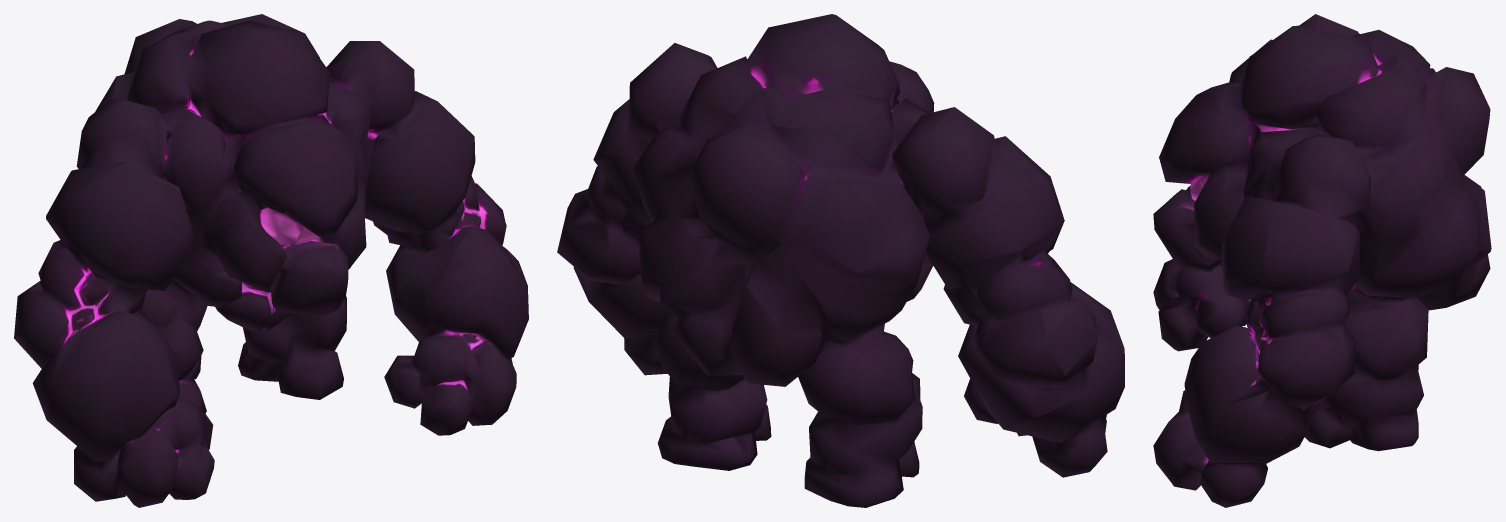
Rendered from hantal.glb.
3 views of the same model, side by side, from view 1: azimuth 30°, elevation 25°; view 2: azimuth 150°, elevation 25°; view 3: azimuth 270°, elevation 25° (orthographic). The views are drawn at different scales.
Visible parts, largest first — view 1: material; view 2: material; view 3: material.
Boxes of the visible parts, left/top/right/bottom form: material: left=14, top=14, right=528, bottom=507; material: left=557, top=14, right=1124, bottom=507; material: left=1153, top=14, right=1491, bottom=507.
Bounding box in the file's own units: 1.9 × 1.49 × 1.19.
1 material, 1 textured.
